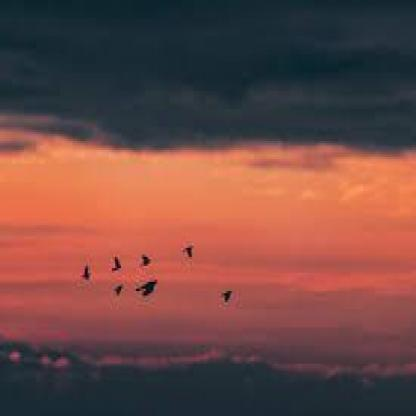bird: (124, 286, 172, 340), (134, 243, 172, 289), (74, 254, 105, 292), (212, 274, 245, 308), (181, 246, 205, 273), (113, 290, 129, 296)
